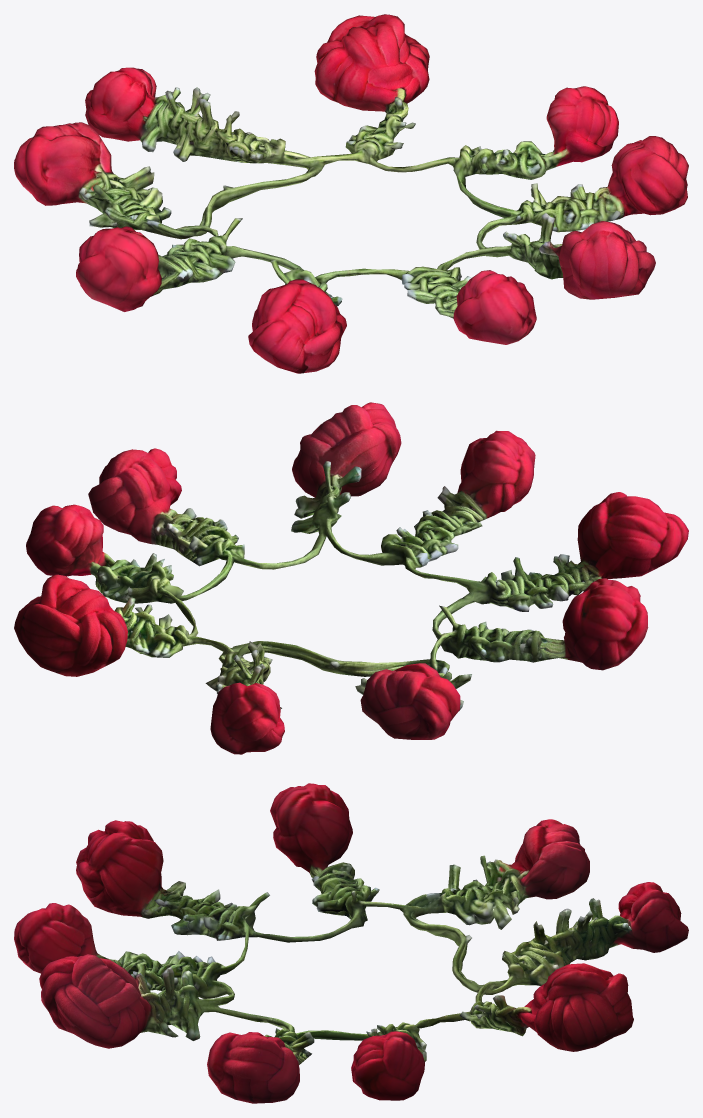
The picture shows the model from 3 angles, top to bottom: view 1: azimuth 30°, elevation 25°; view 2: azimuth 150°, elevation 25°; view 3: azimuth 270°, elevation 25°; orthographic projection. The views are drawn at different scales.
Parts seen in each view (by area): view 1: C; view 2: C; view 3: C.
Boxes of the visible parts, <box> form: C: <box>14,14,688,373</box>; C: <box>14,402,688,754</box>; C: <box>14,783,688,1103</box>.
Bounding box in the file's own units: 1.02 × 0.1594 × 1.08.
1 material, 1 textured.
